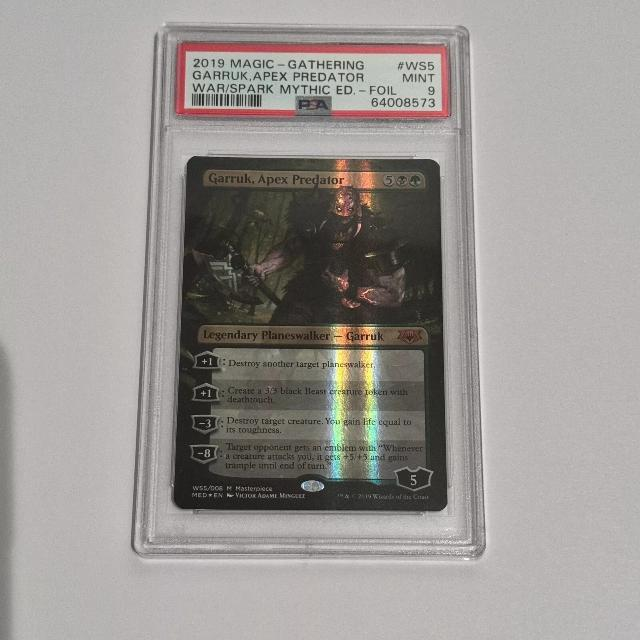card: (172, 155, 448, 511)
psa_label: (176, 43, 449, 117)
psa_slab: (131, 21, 487, 559)
